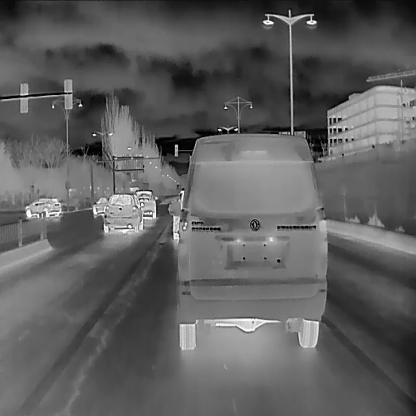car: (166, 131, 328, 350), (103, 192, 144, 232), (23, 197, 61, 219), (133, 189, 158, 218), (92, 196, 111, 214), (127, 182, 149, 194)
